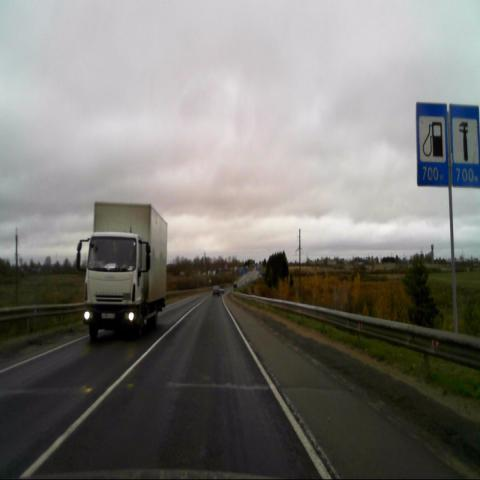7_4: (448, 103, 480, 188)
